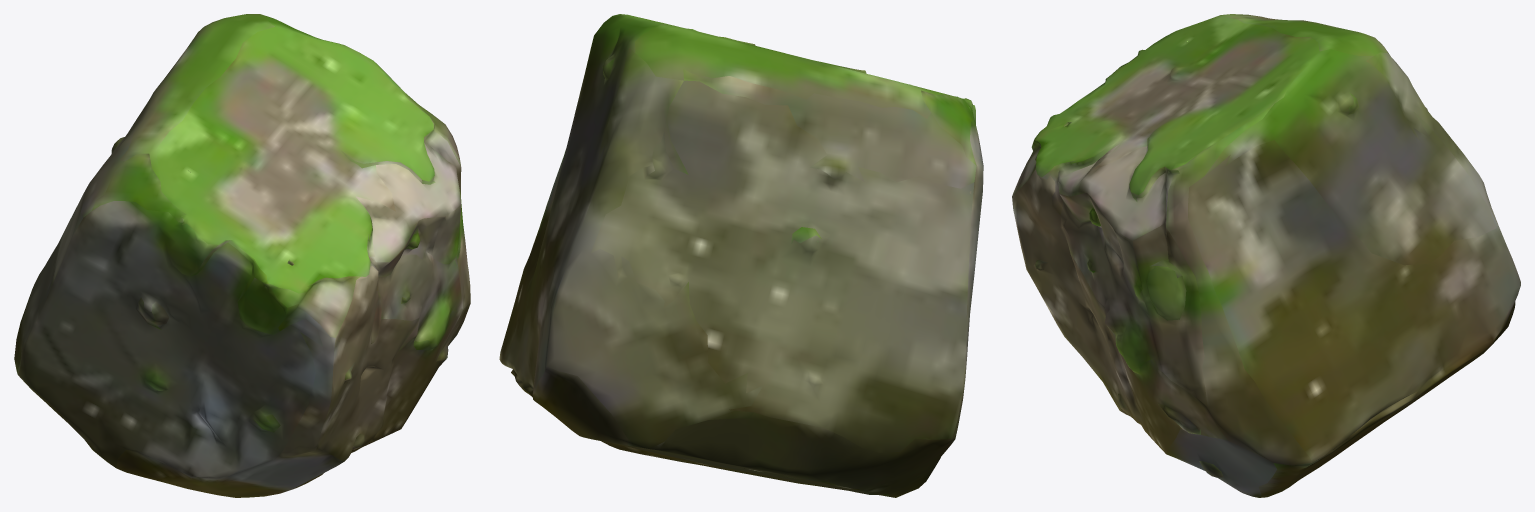
File: boulder.glb
The picture shows the model from 3 angles, left to right: view 1: azimuth 30°, elevation 25°; view 2: azimuth 150°, elevation 25°; view 3: azimuth 270°, elevation 25°; orthographic projection. The views are drawn at different scales.
Size of the model in its own units: 0.9085 by 0.9034 by 0.9608.
Materials: 1 (1 with a texture image).
